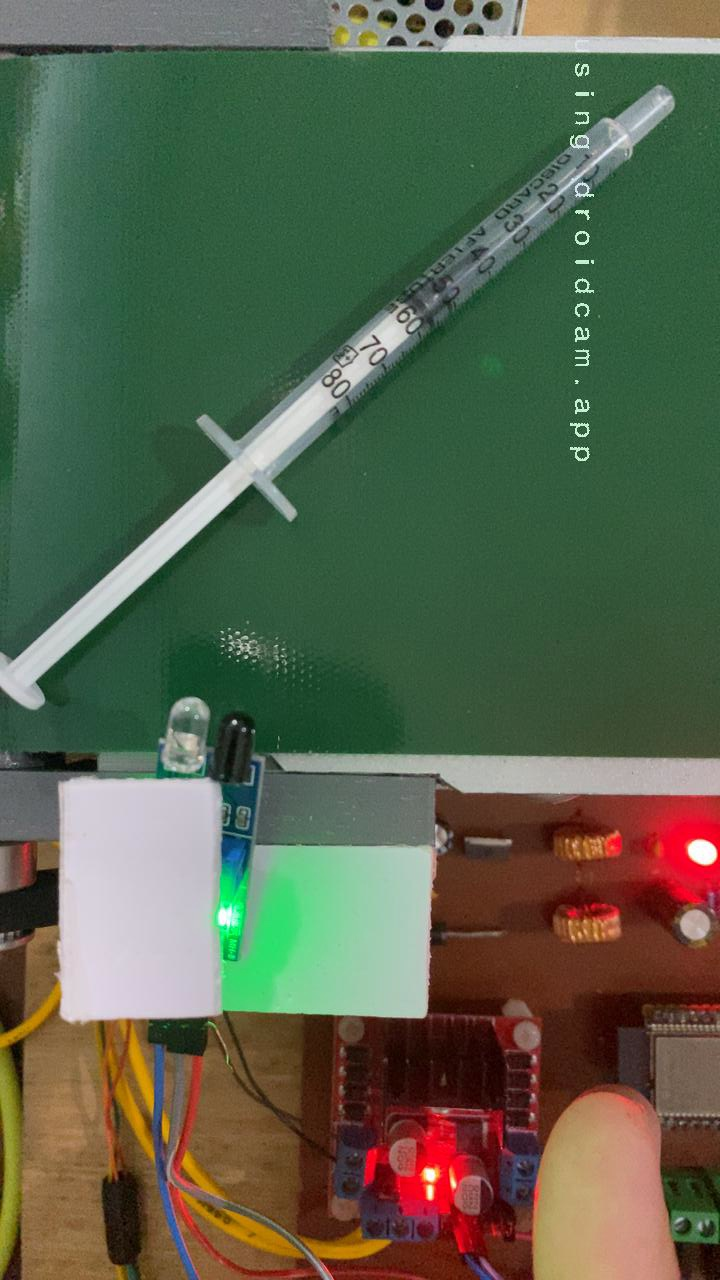syringe: (0, 79, 682, 718)
